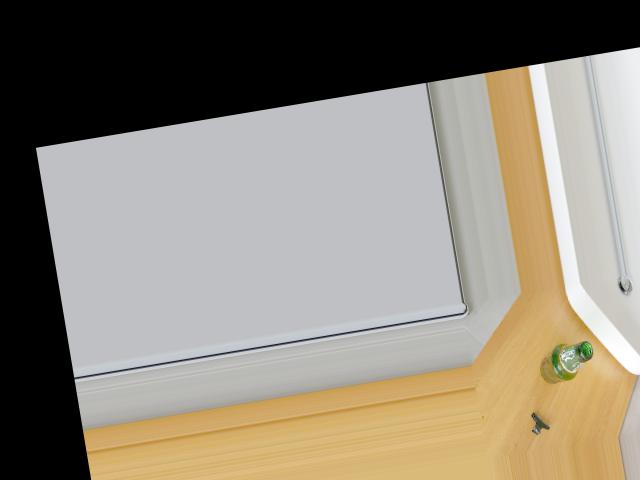beer: (535, 339, 596, 384)
